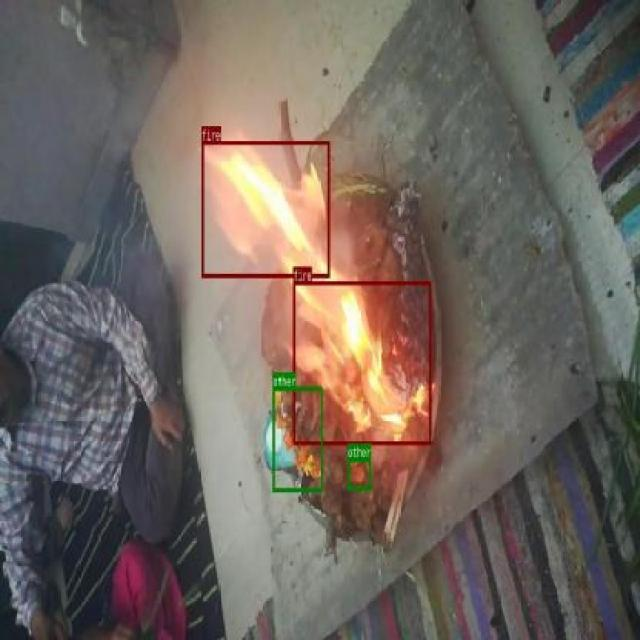Fire: (292, 280, 430, 445), (201, 140, 330, 277)
